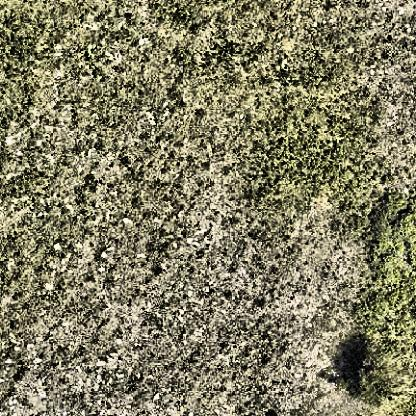tree-top: (337, 343, 408, 408)
